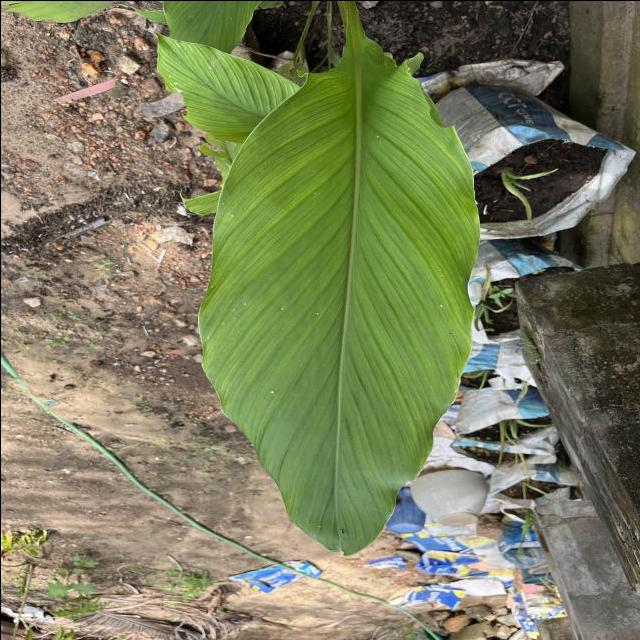Curcuma longa: (194, 25, 483, 558)
